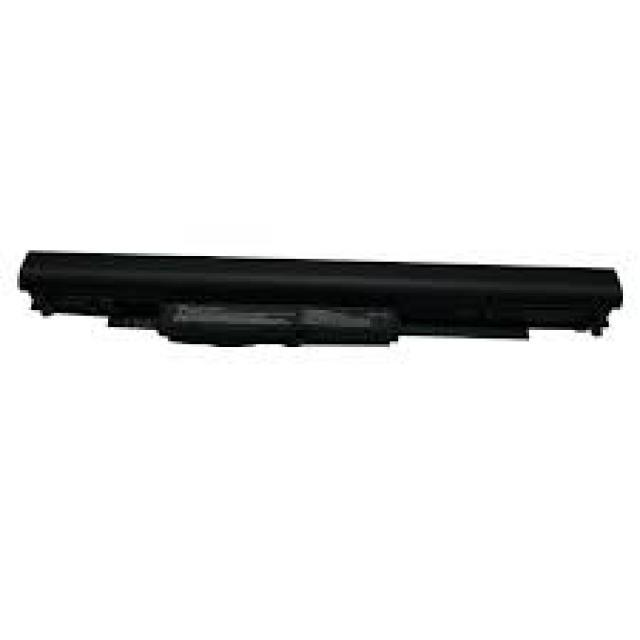battery: (20, 245, 622, 349)
